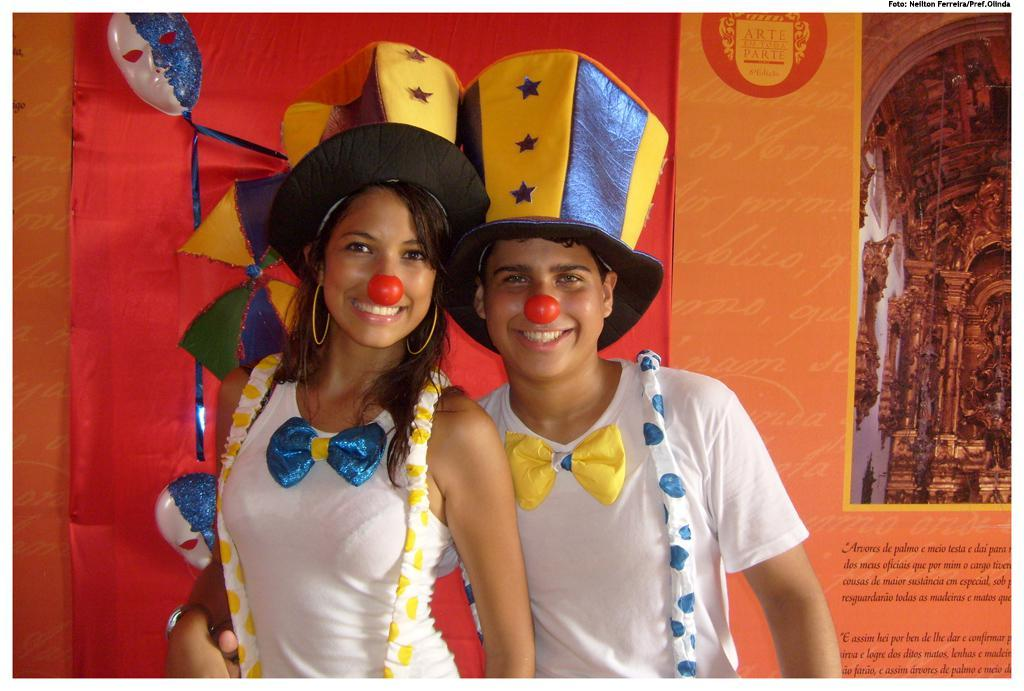Hat: (432, 47, 672, 355), (270, 44, 480, 284)
